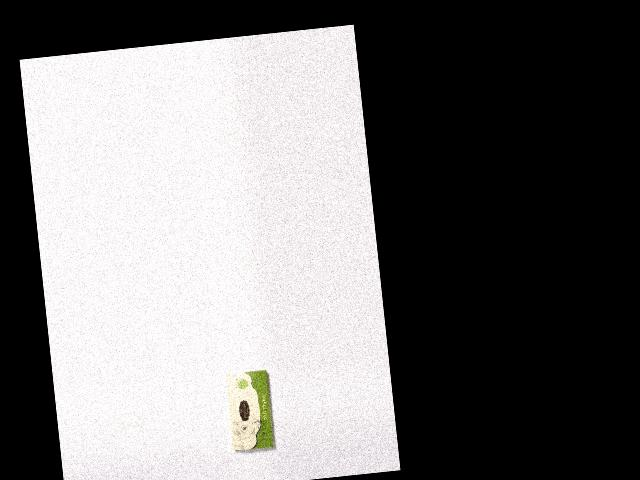chocolate: (224, 368, 275, 452)
